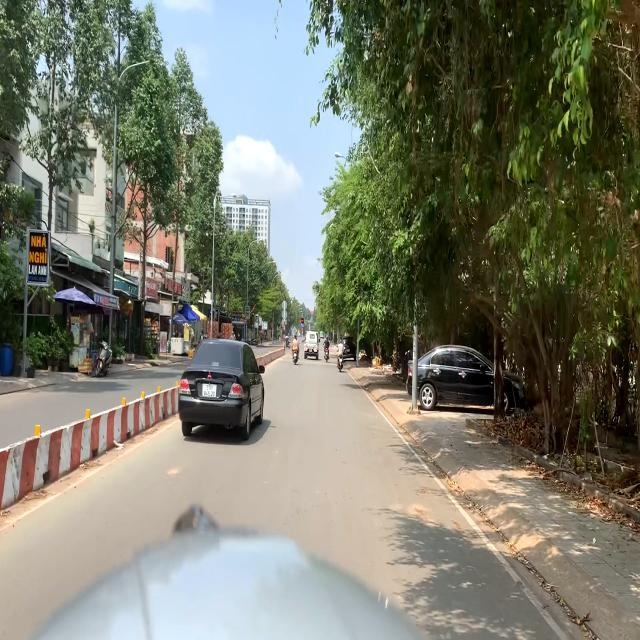bien_hieu_lenh: (301, 318, 304, 323), (301, 324, 304, 327)
